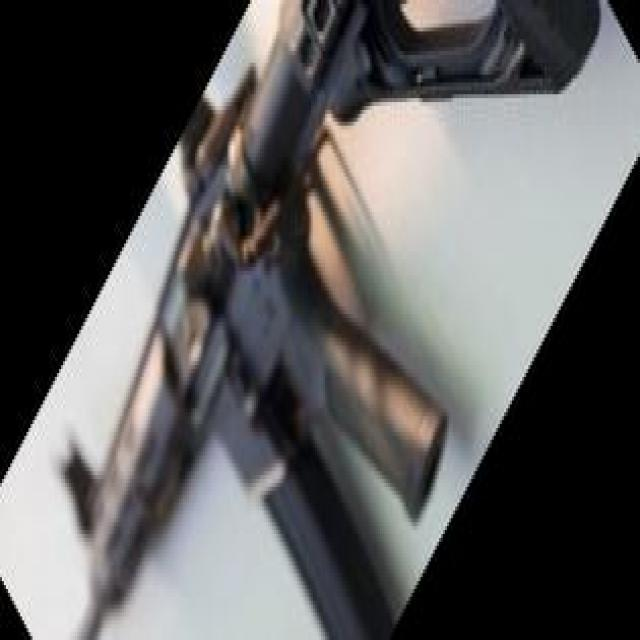weapon: (53, 0, 602, 640)
